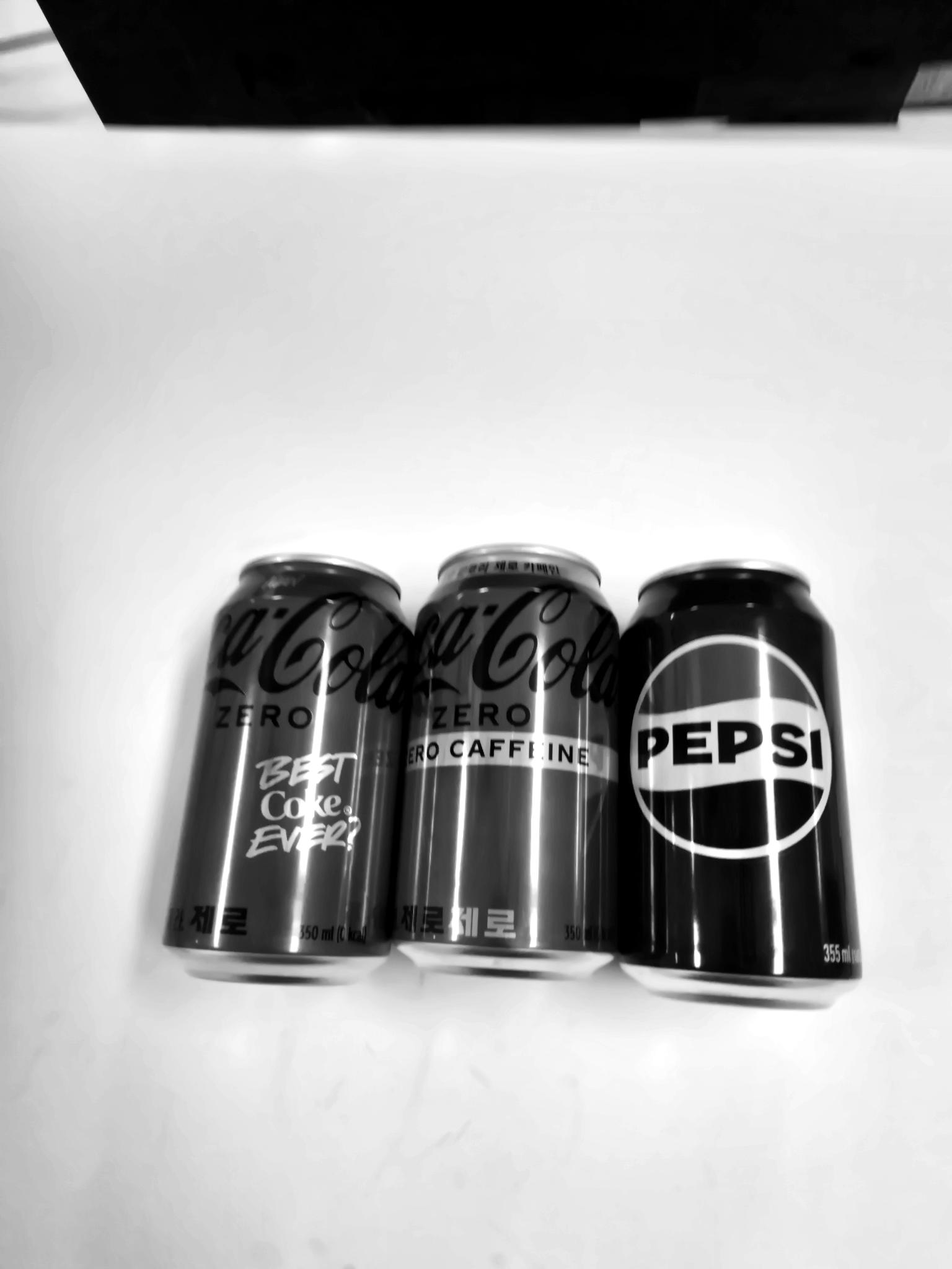can_coke_decaf: (395, 544, 622, 989)
can_coke_zero: (161, 552, 413, 990)
can_pepsi: (620, 561, 864, 1019)
